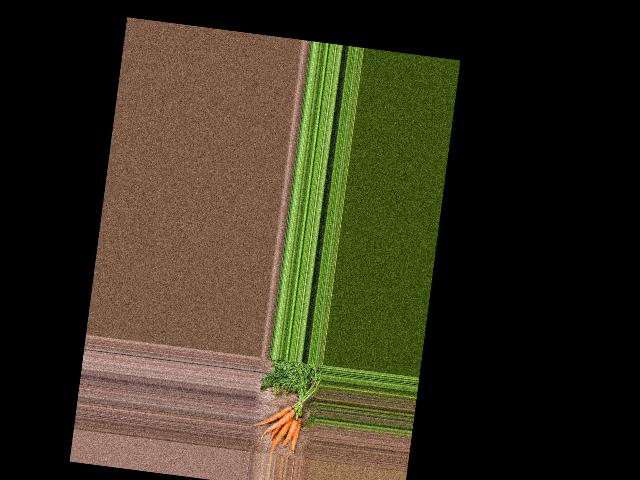carrot: (280, 414, 302, 449)
